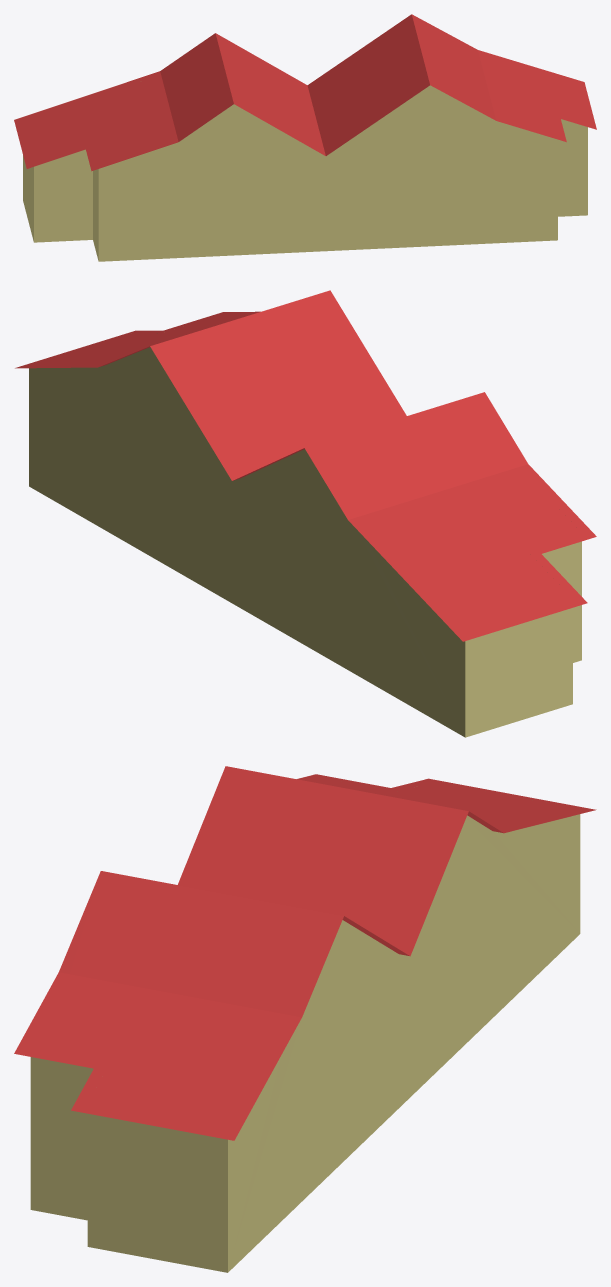
3 views of the same model, one above another, from view 1: azimuth 30°, elevation 25°; view 2: azimuth 150°, elevation 25°; view 3: azimuth 270°, elevation 25° (orthographic). The views are drawn at different scales.
Bounding box in the file's own units: 35.51 × 23.02 × 11.26.
